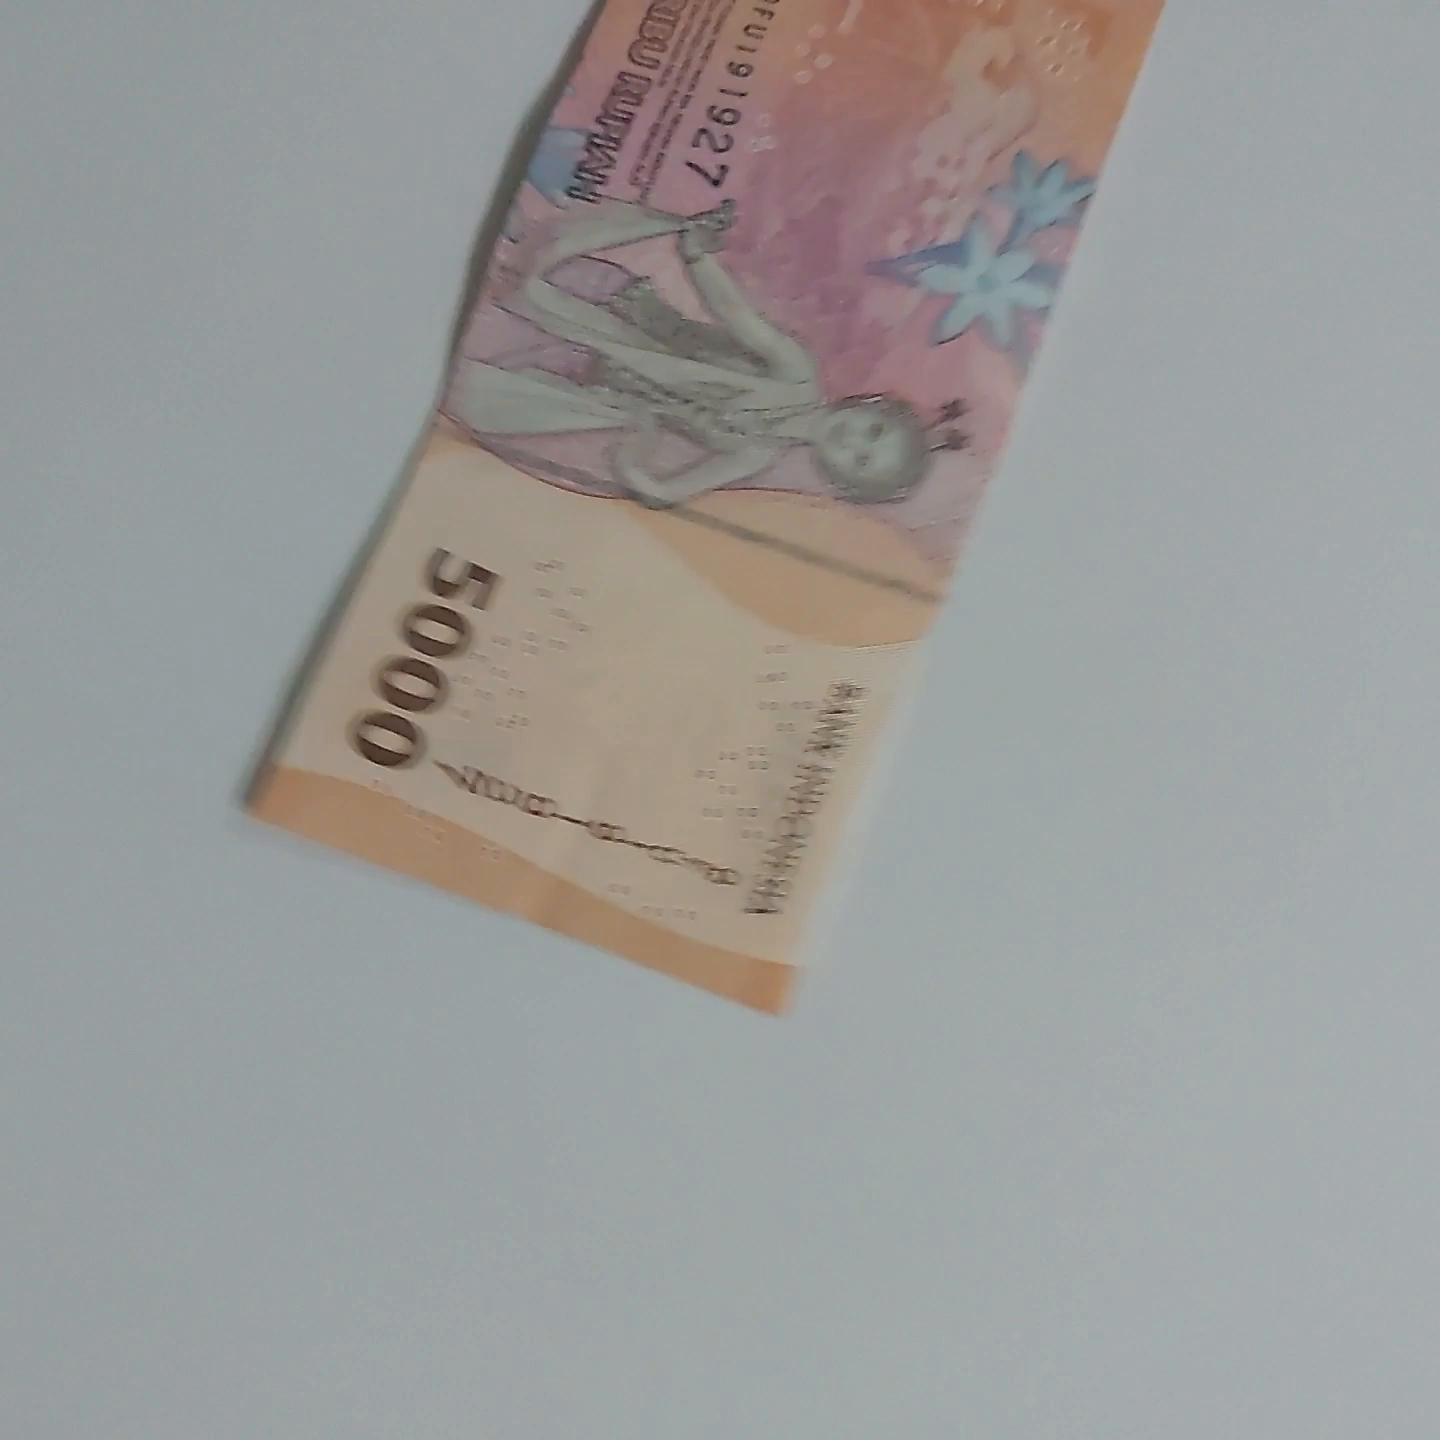5k: (335, 0, 1143, 1040)
